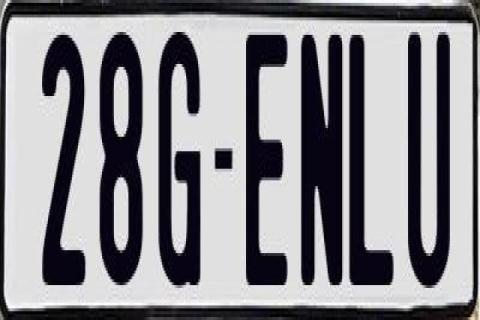0: (96, 32, 144, 300), (42, 29, 92, 282)
E: (242, 26, 284, 288)
G: (155, 24, 203, 288)
L: (346, 29, 392, 294)
N: (298, 26, 340, 288)
U: (408, 29, 450, 303)
